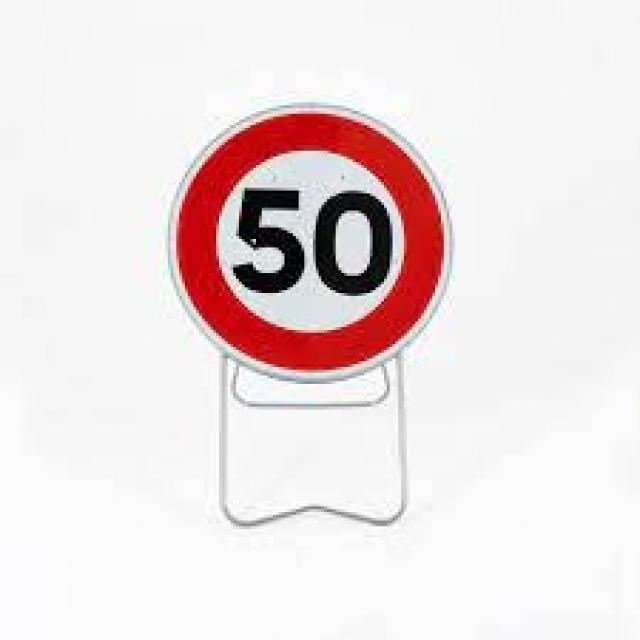speed_limit_50: (158, 90, 461, 386)
